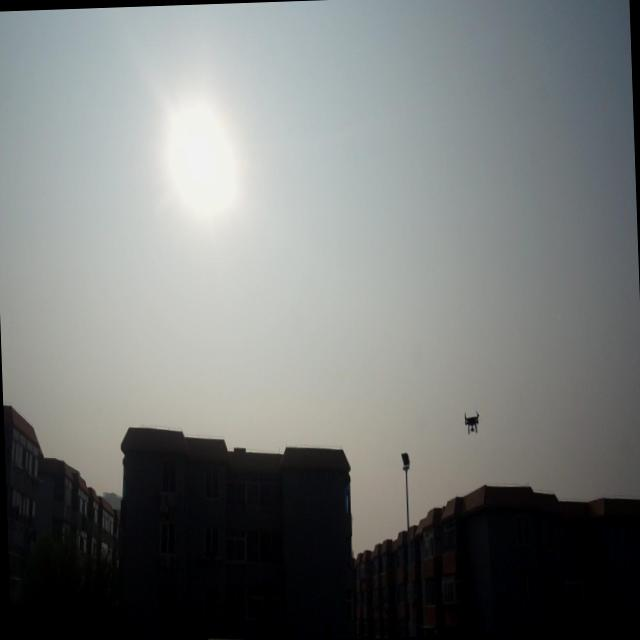drone: (462, 406, 480, 436)
